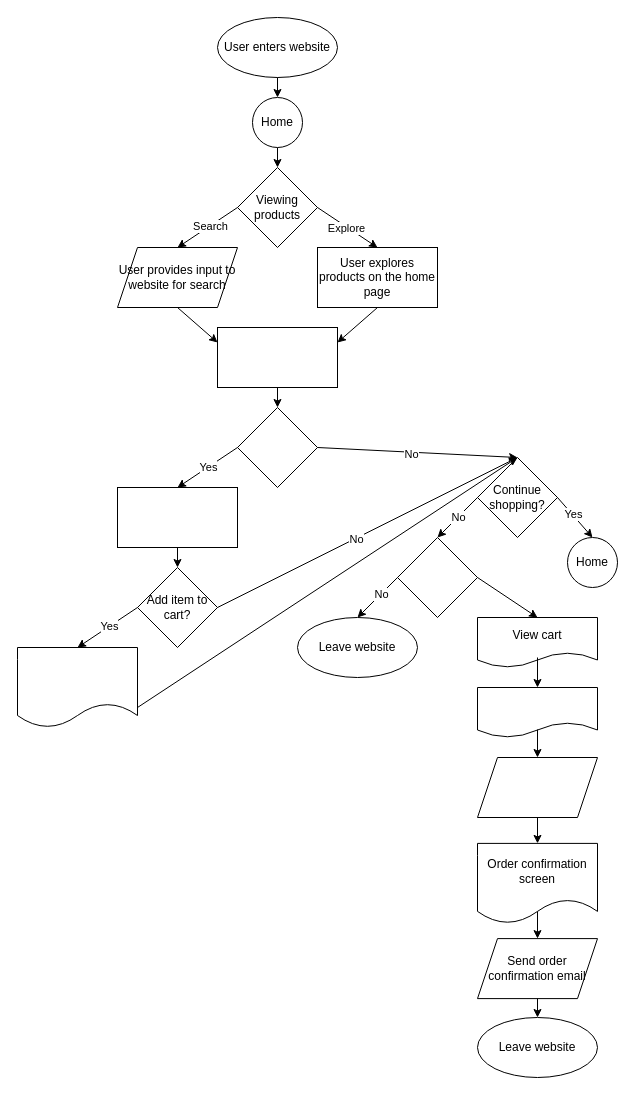
Some shapes in this 643 by 1095 pixel diagram are drawn without their labels. The centre of each missing label's shape, as x and y in pixels:
Added to cart confirmation: [77,687]
Check out?: [437,577]
Input payment information: [537,787]
Specific product webpage opens: [177,517]
User begins looking over products: [277,357]
View payment: [537,712]
View specific product?: [277,447]
